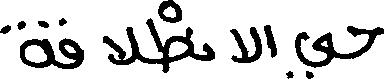X: (146, 0, 193, 77), (0, 16, 51, 72), (297, 27, 334, 78), (348, 21, 383, 63), (105, 22, 136, 69), (59, 13, 82, 73), (231, 22, 260, 67), (266, 20, 277, 62), (206, 38, 212, 65)
